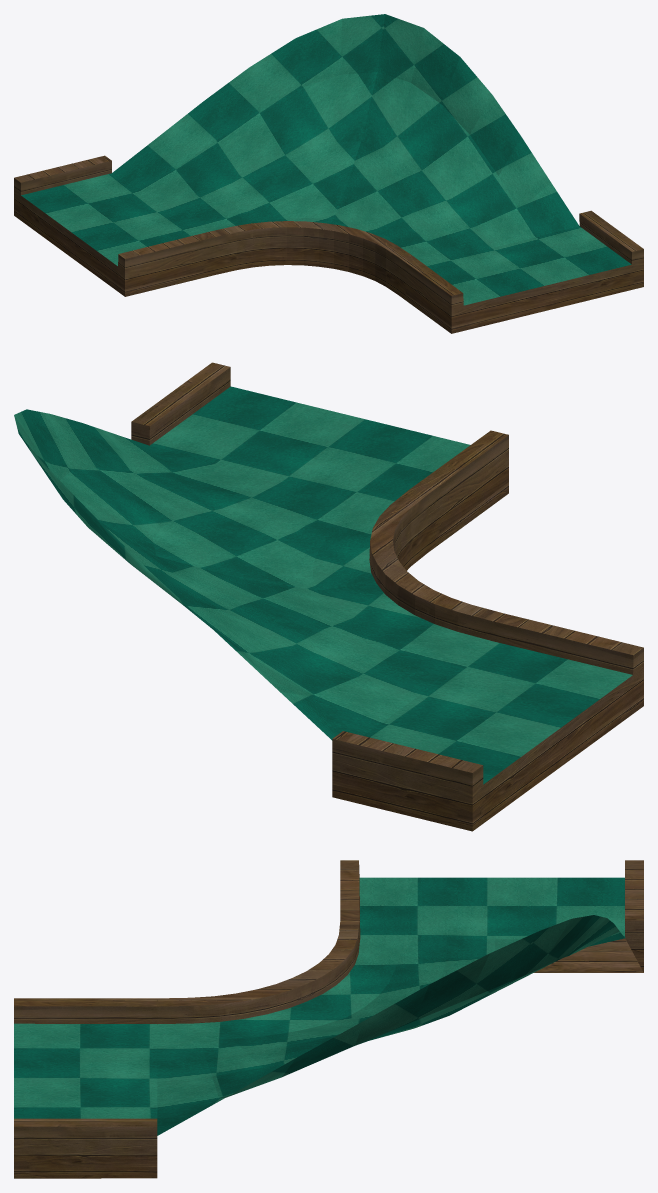
Rendered from Slope_Corner.gltf.
3 renders of one model, top to bottom at view 1: azimuth 30°, elevation 25°; view 2: azimuth 150°, elevation 25°; view 3: azimuth 270°, elevation 25°, orthographic. The views are drawn at different scales.
Parts seen in each view (by area): view 1: Slope_Corner_glb; view 2: Slope_Corner_glb; view 3: Slope_Corner_glb.
Boxes of the visible parts, left/top/right/bottom form: Slope_Corner_glb: left=14, top=14, right=643, bottom=333; Slope_Corner_glb: left=14, top=362, right=643, bottom=831; Slope_Corner_glb: left=14, top=860, right=643, bottom=1178.
Size of what is drawn, in the model's own units: 8.29 by 2.95 by 8.29.
2 materials, 2 textured.
